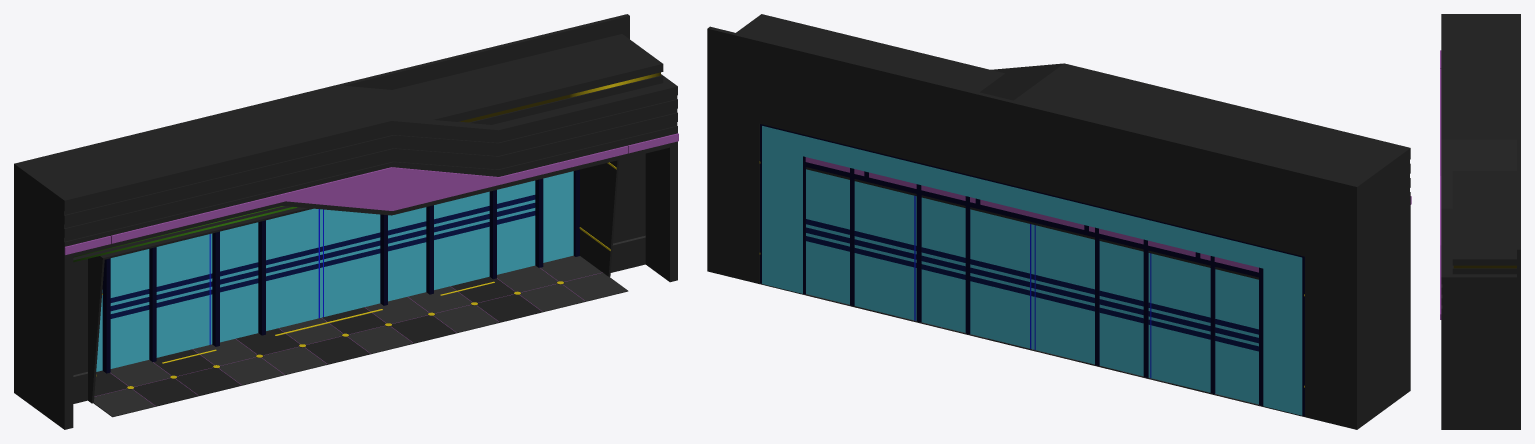
Rendered from Wall_Door_14x5x2_001_L0.fbx.
3 renders of one model, left to right at view 1: azimuth 30°, elevation 25°; view 2: azimuth 150°, elevation 25°; view 3: azimuth 270°, elevation 25°, orthographic. The views are drawn at different scales.
Visible parts, largest first — view 1: Wall_Door_14x5x2_001_L0; view 2: Wall_Door_14x5x2_001_L0; view 3: Wall_Door_14x5x2_001_L0.
Boxes of the visible parts, left/top/right/bottom form: Wall_Door_14x5x2_001_L0: left=14, top=14, right=678, bottom=429; Wall_Door_14x5x2_001_L0: left=707, top=14, right=1411, bottom=429; Wall_Door_14x5x2_001_L0: left=1440, top=14, right=1520, bottom=429.
Size of the model in its own units: 14 by 2.03 by 5.
